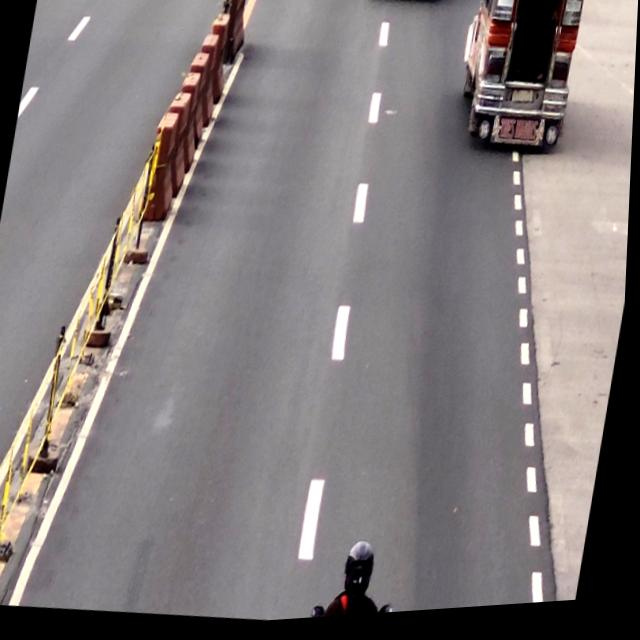Jeep: (456, 0, 581, 151)
Motorcycle: (320, 539, 400, 622)
